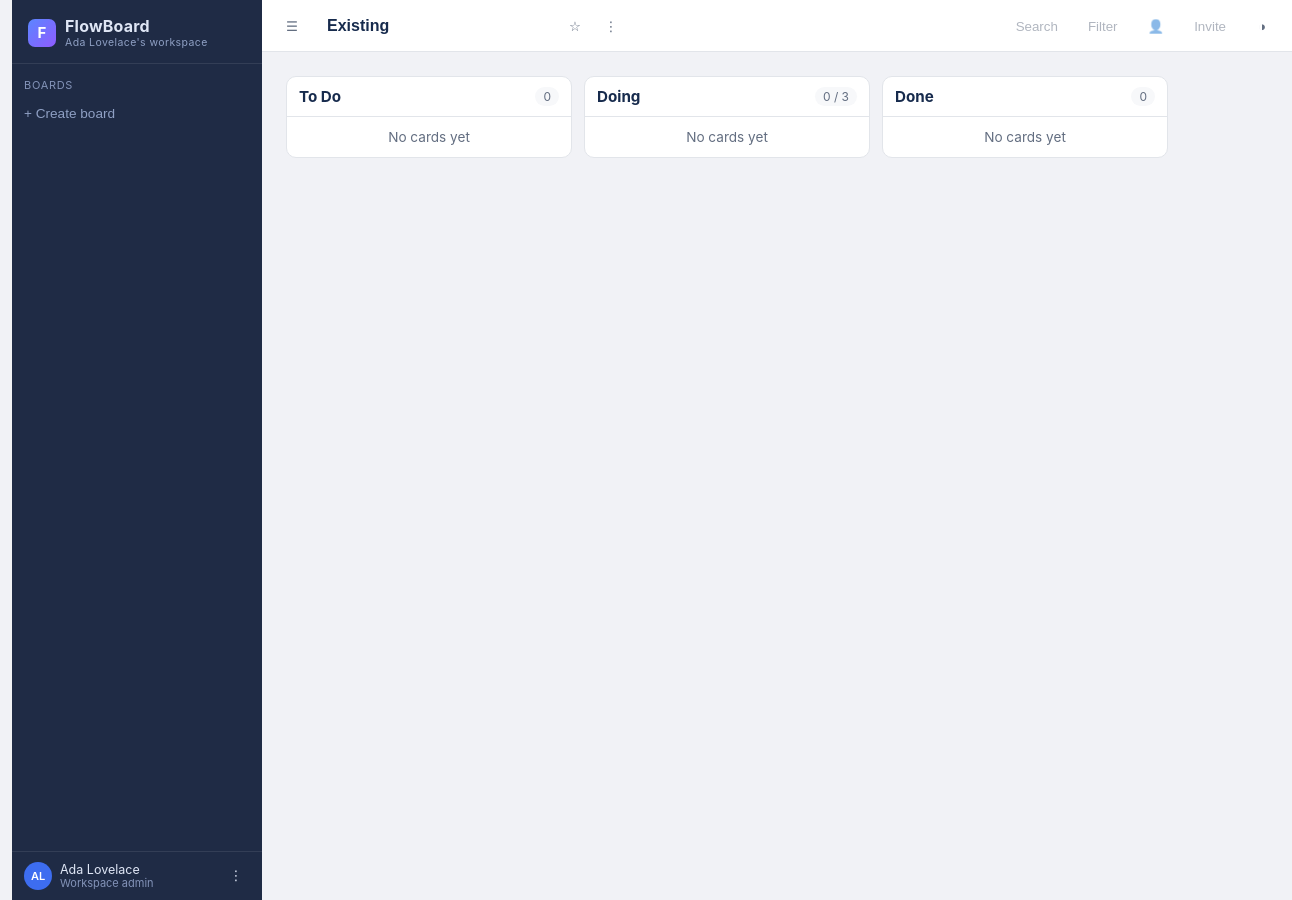
Test: CreateBoard (FS §4.1, B-02, CL-E6, FB-04 spec AC 10) › Enter creates the board and navigates to it, showing the created toast
Step 1. Click the button "+ Create board" → (137, 114), box [12,98,262,129]
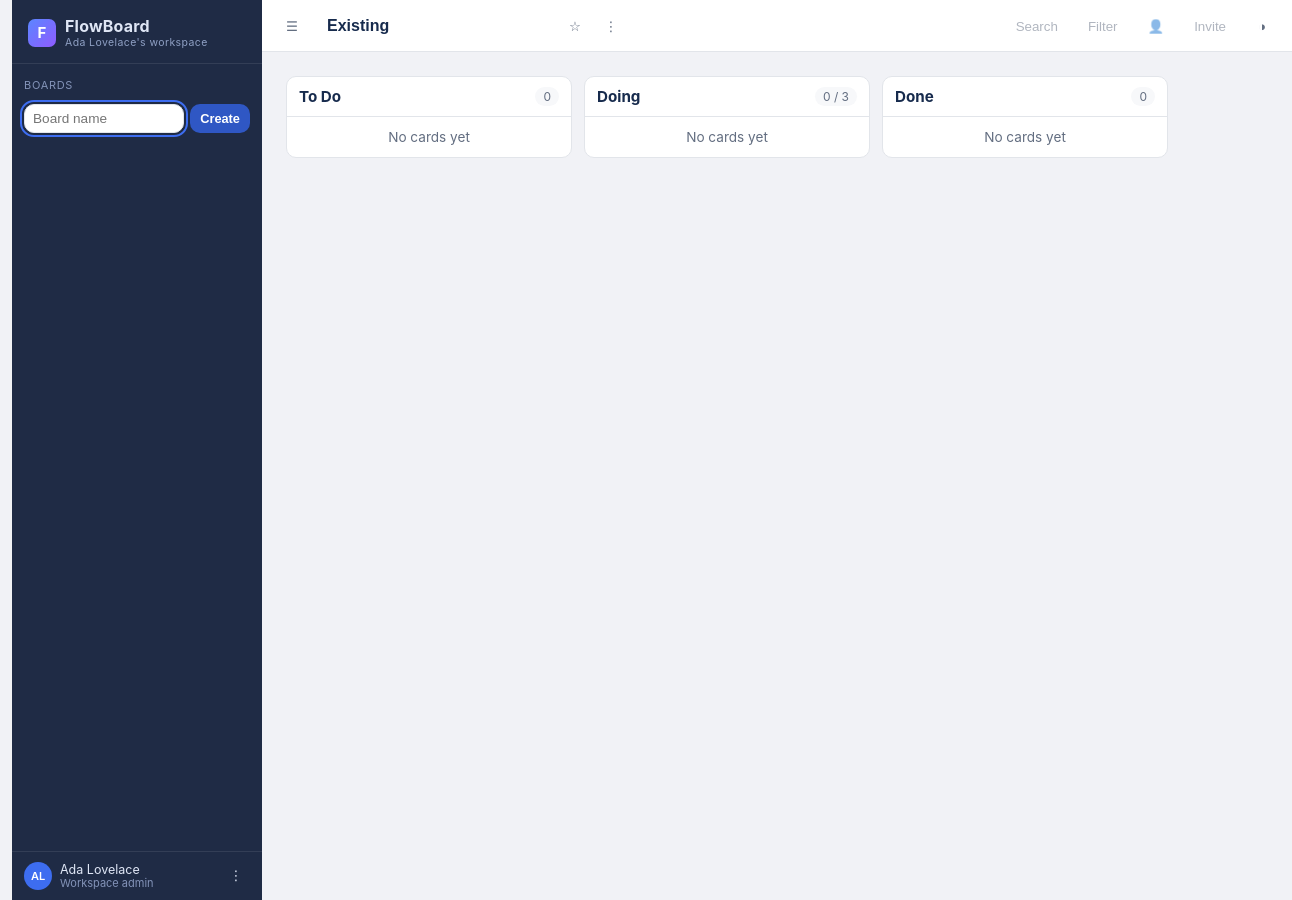
Step 2. Type "New Board" into the field with placeholder "Board name" → (104, 118), box [24,104,184,133]
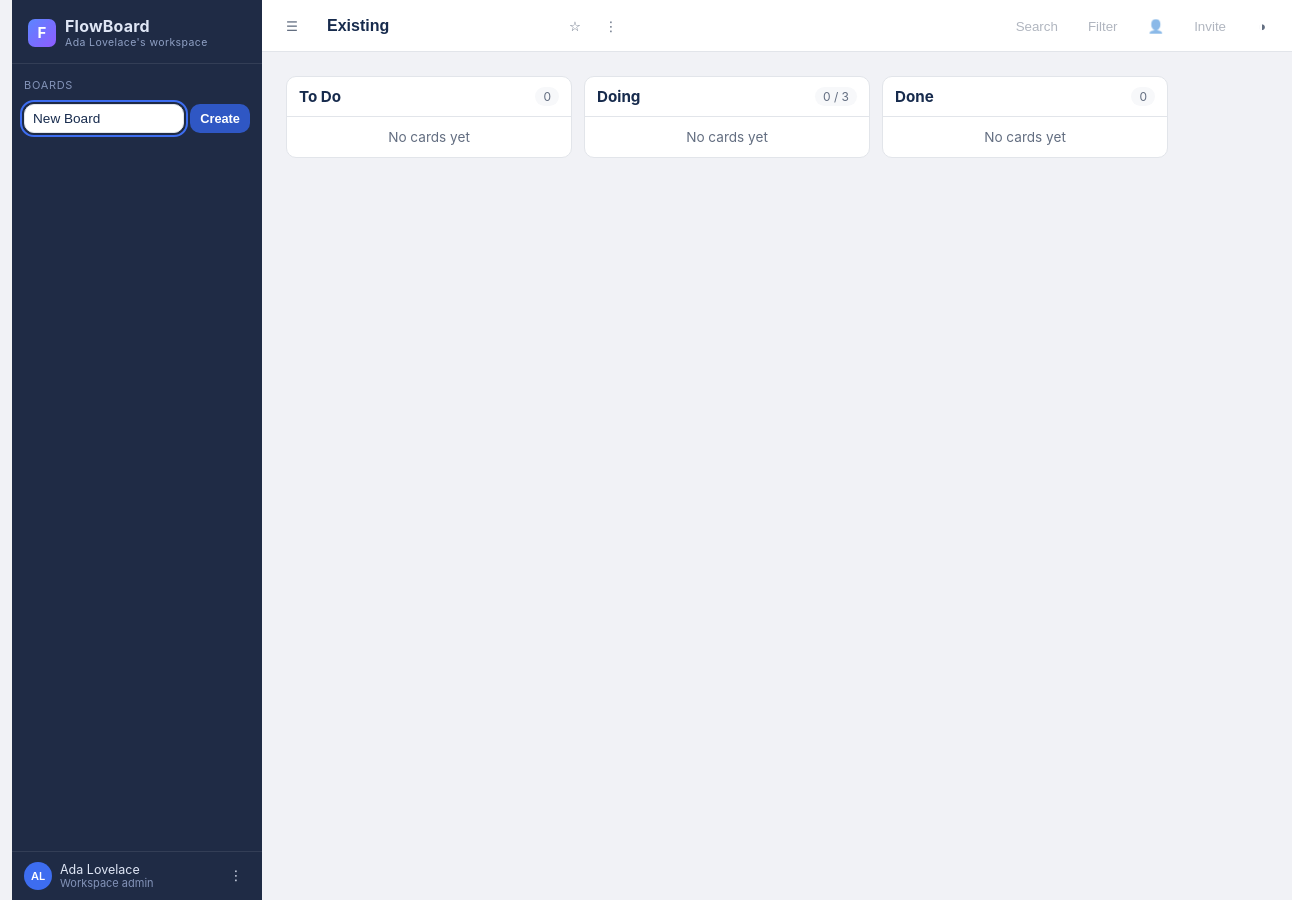
Step 3. Press Enter in the field with placeholder "Board name" below "Boards", box [24,104,184,133]
Step 4. Submit the form with placeholder "Board name", box [12,98,262,139]
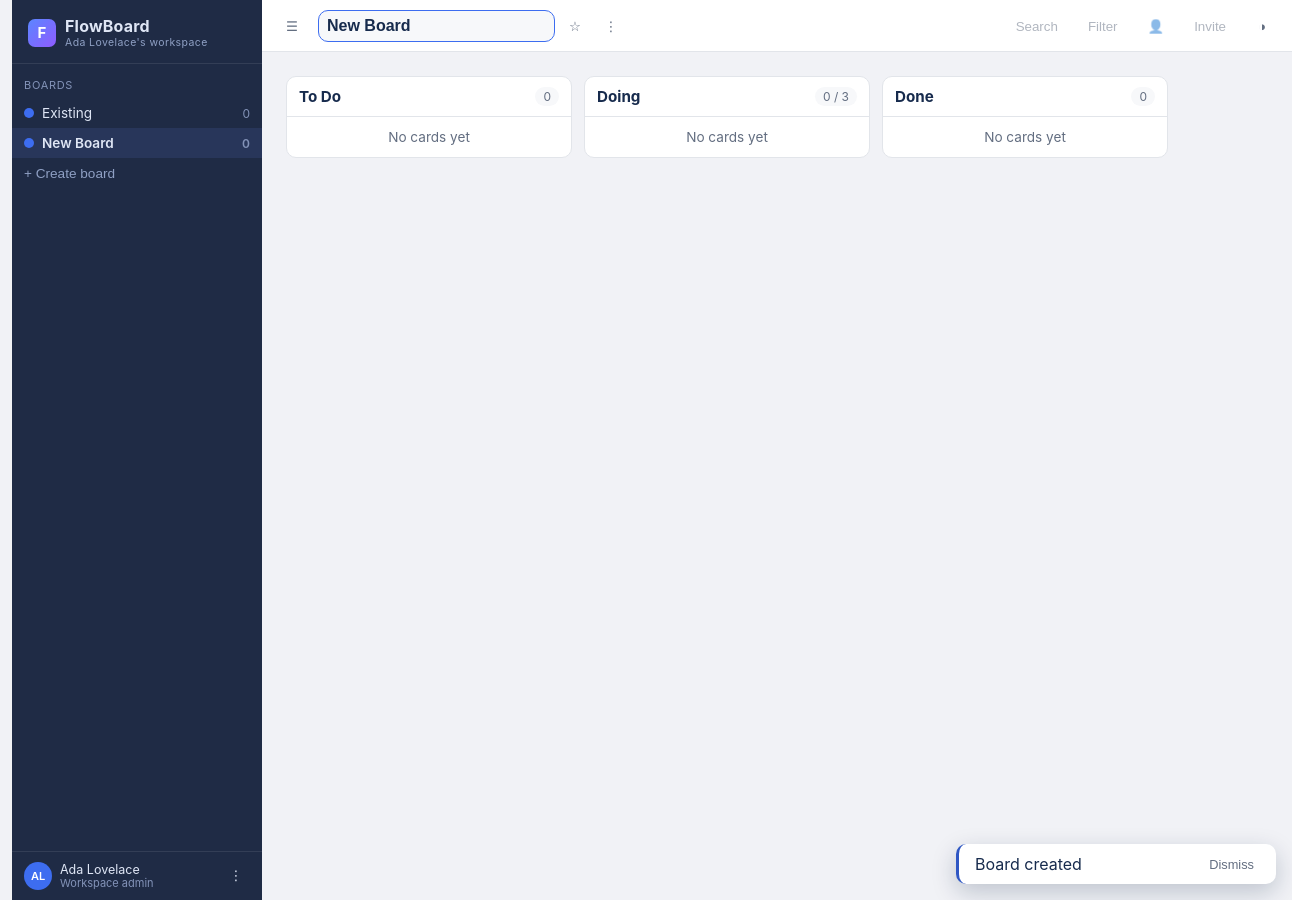
Result: the text "Board created" is shown at [975,854,1082,874]
